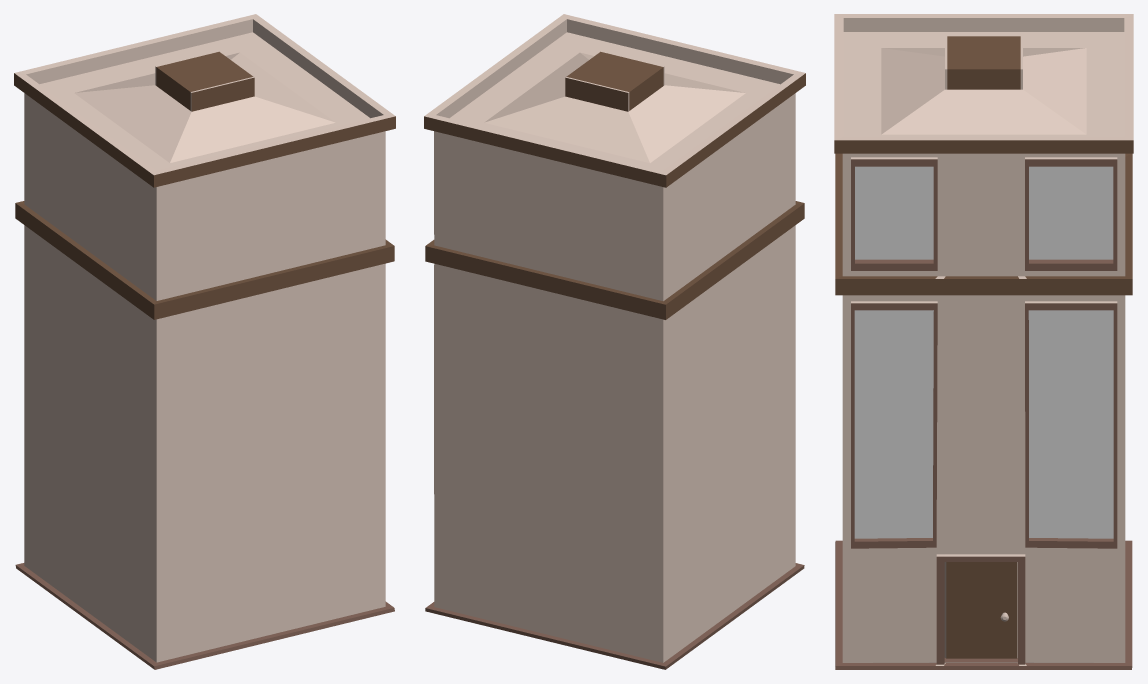
File: building.fbx
3 views of the same model, side by side, from view 1: azimuth 30°, elevation 25°; view 2: azimuth 150°, elevation 25°; view 3: azimuth 270°, elevation 25° (orthographic). The views are drawn at different scales.
Parts seen in each view (by area): view 1: Building; view 2: Building; view 3: Building.
Boxes of the visible parts, left/top/right/bottom form: Building: left=14, top=14, right=395, bottom=669; Building: left=424, top=14, right=805, bottom=669; Building: left=834, top=14, right=1133, bottom=669.
Bounding box in the file's own units: 5285 × 10808 × 5285.
